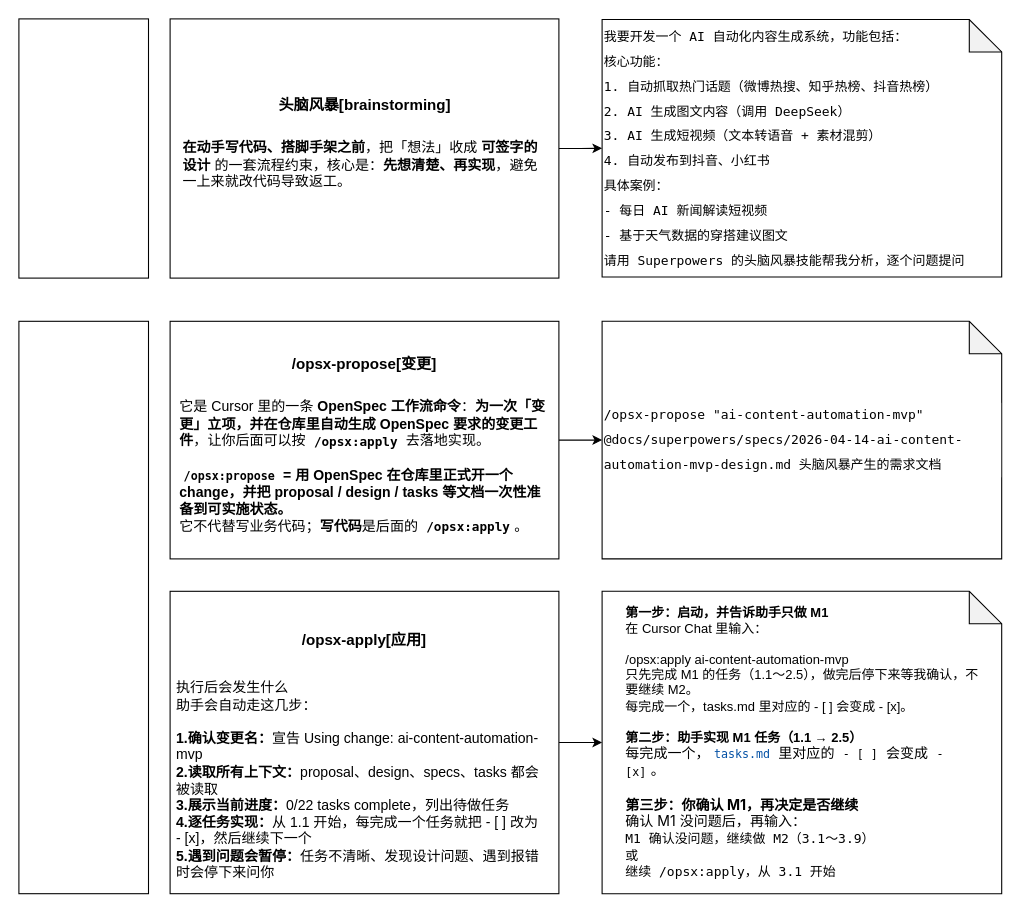
Some shapes in this 1021 by 913 pixel diagram are drawn without their labels. Each missing label, with the centre of its shape:
"OpenSpec" belongs at (x=83, y=607).
"SuperPower" belongs at (x=83, y=148).
